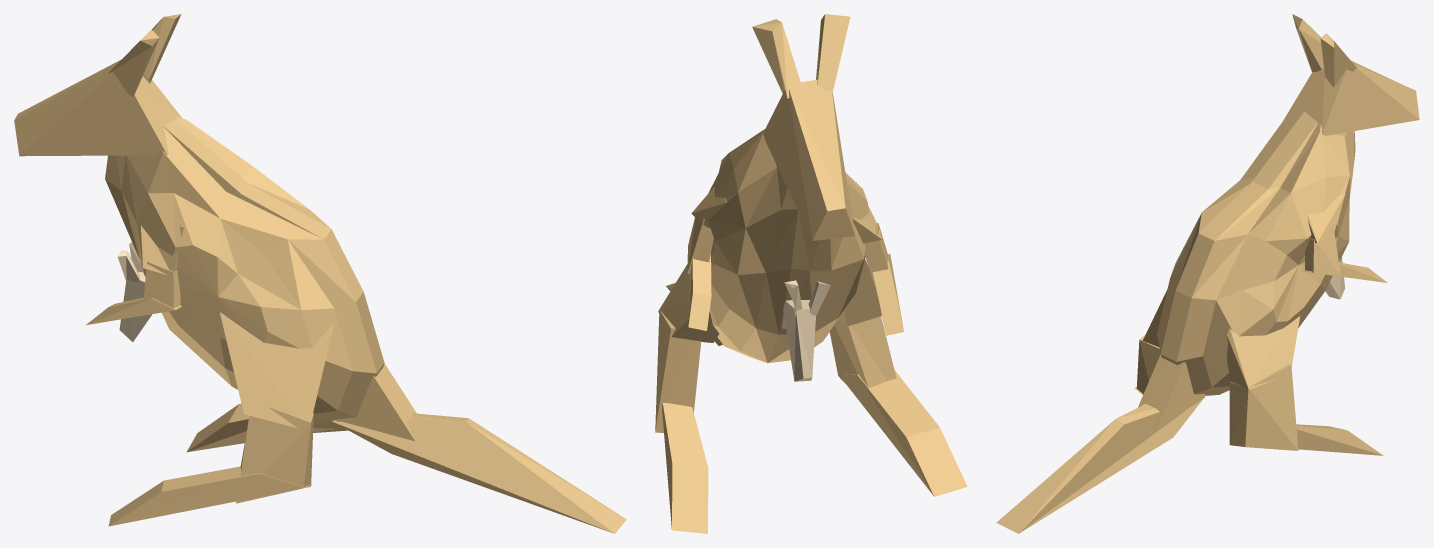
Rendered from kangaroo2.glb.
3 views of the same model, side by side, from view 1: azimuth 30°, elevation 25°; view 2: azimuth 150°, elevation 25°; view 3: azimuth 270°, elevation 25° (orthographic). The views are drawn at different scales.
Visible parts, largest first — view 1: Object_3, Object_2; view 2: Object_3, Object_2; view 3: Object_3.
Boxes of the visible parts, x1,y1,x2,y2 form: Object_3: (14,14,626,533); Object_2: (117,242,152,341); Object_3: (655,14,967,533); Object_2: (782,280,830,381); Object_3: (996,14,1419,533).
Bounding box in the file's own units: 1.35 × 1.51 × 1.44.
